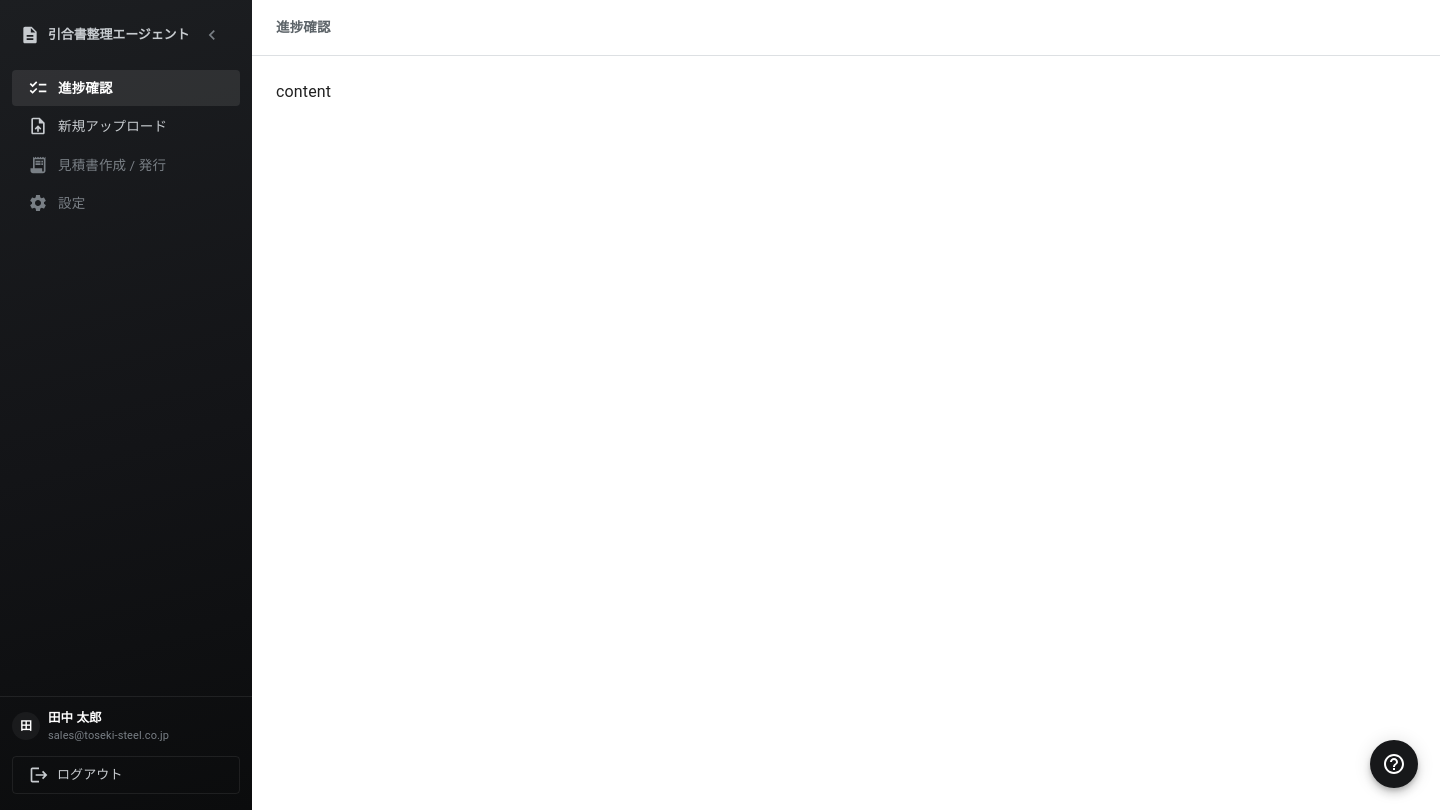
Test: AppShell › shows a toast instead of navigating for placeholder nav items
Click the button "設定" at coordinates (57, 203), box top-left (28, 193), bottom-right (85, 213)
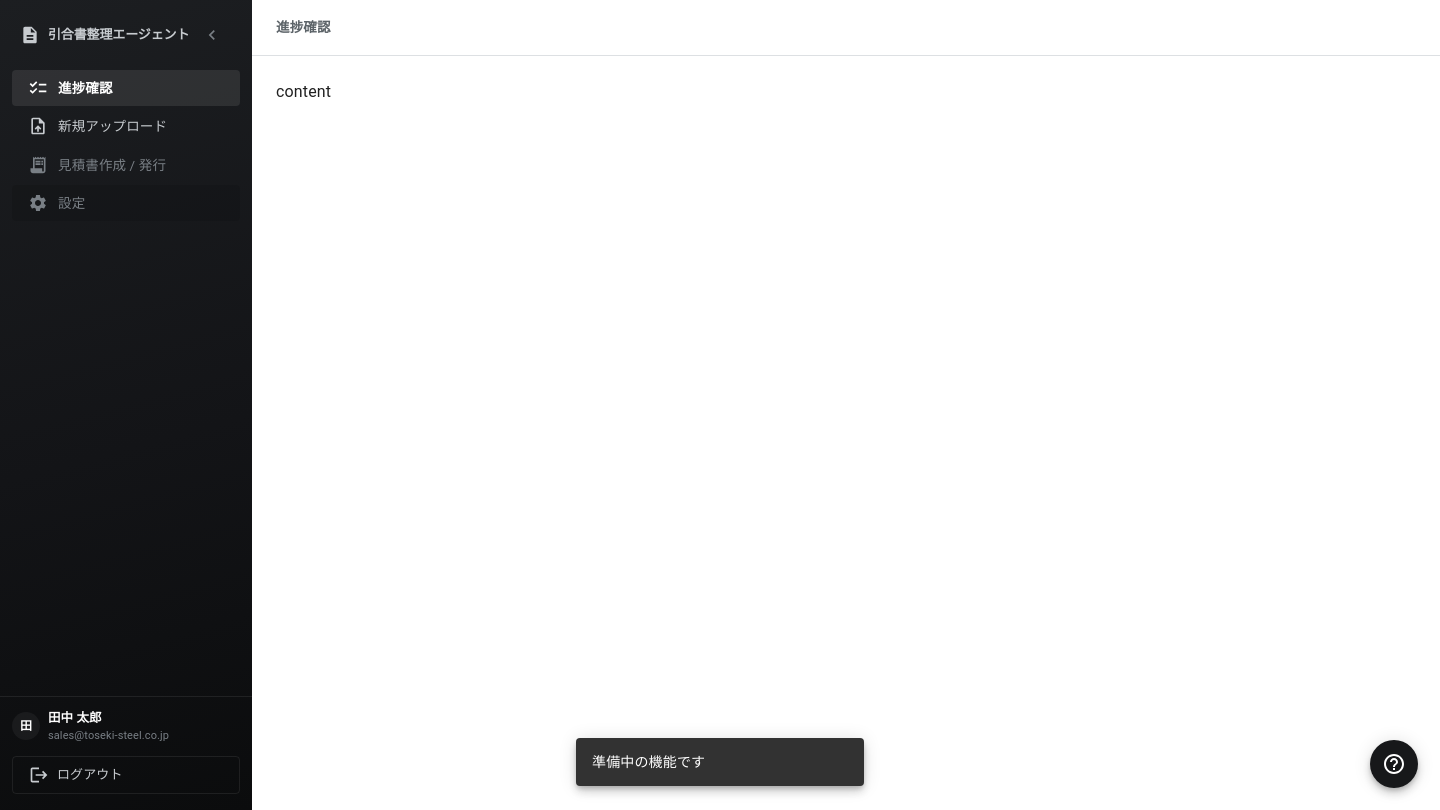
Result: the text "準備中の機能です" is shown at top-left (592, 754), bottom-right (705, 770)
